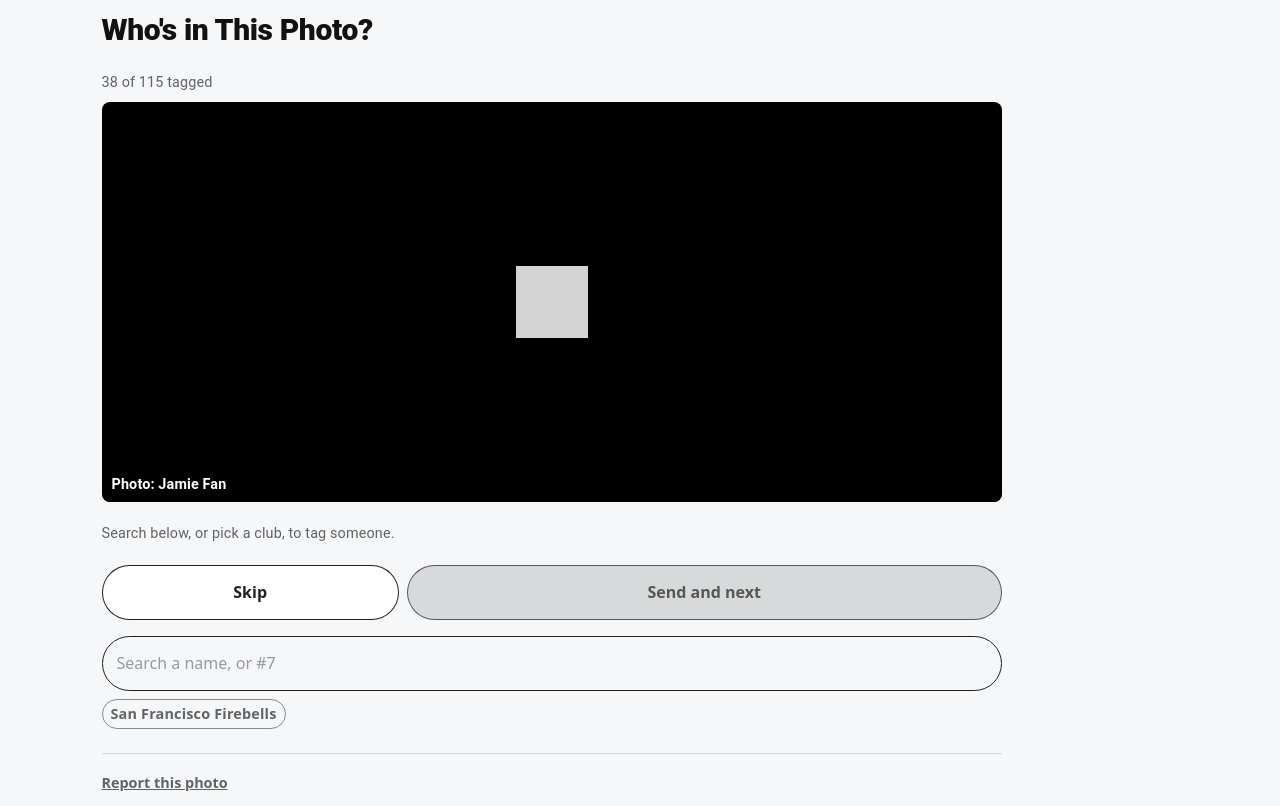
Test case: PhotoTagPage › sends nothing until someone is picked, and offers nothing off the list
This screenshot has width=1280, height=806.
Check: the text "38 of 115 tagged" is shown, box [102,74,212,91]
Check: the button "Send and next" is disabled, box [407,565,1002,620]
In the search field named "Search by name or number": [552, 663] box [102,636,1002,691], type "Someone Not In The League"
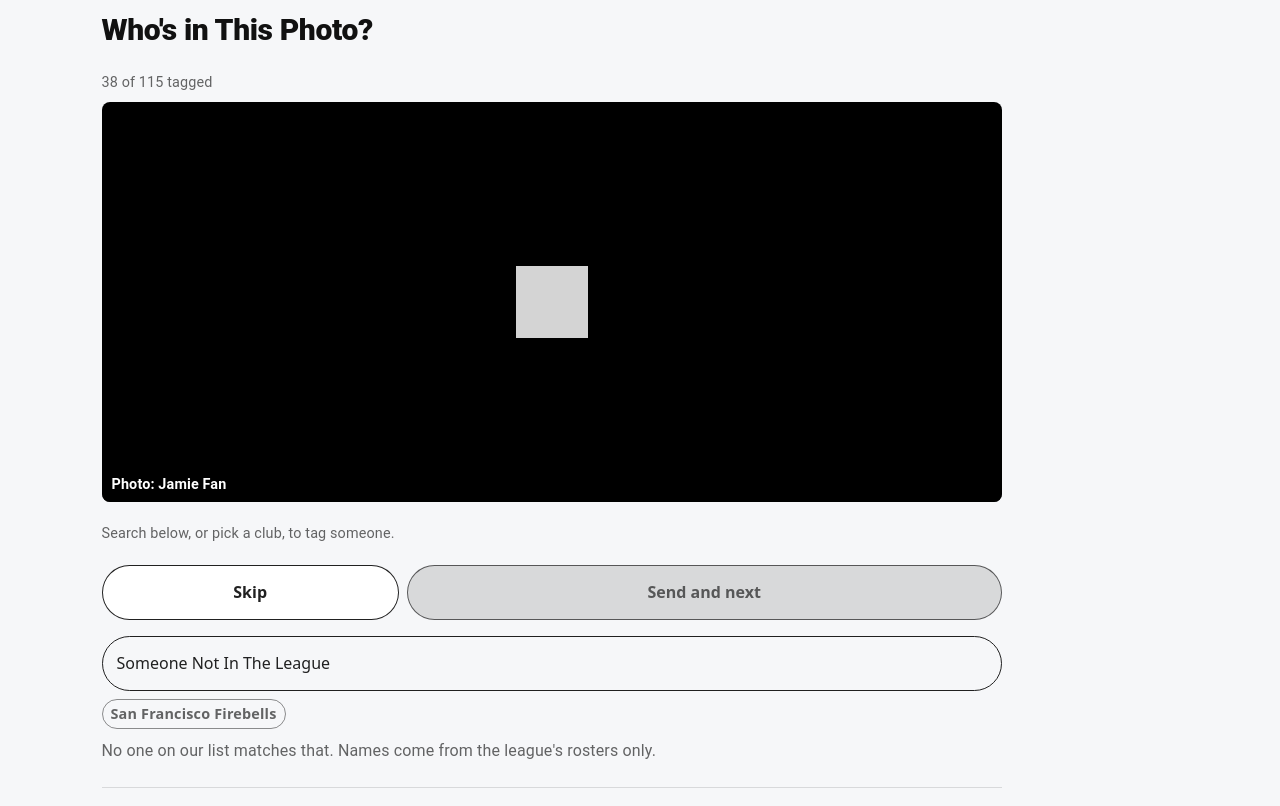
Check: the button "Send and next" is disabled, box [407,565,1002,620]
Check: the text "No one on our list matches that" is shown, box [102,741,656,760]
